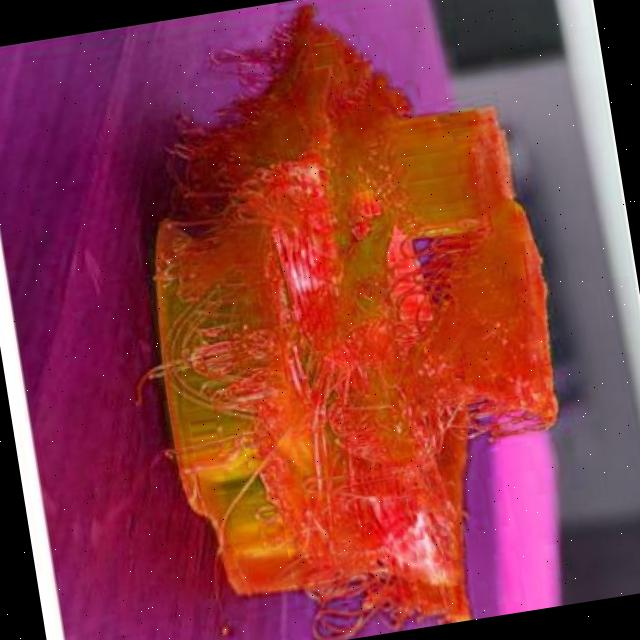spaghetti: (96, 102, 578, 497), (246, 455, 492, 640), (154, 0, 424, 163)
